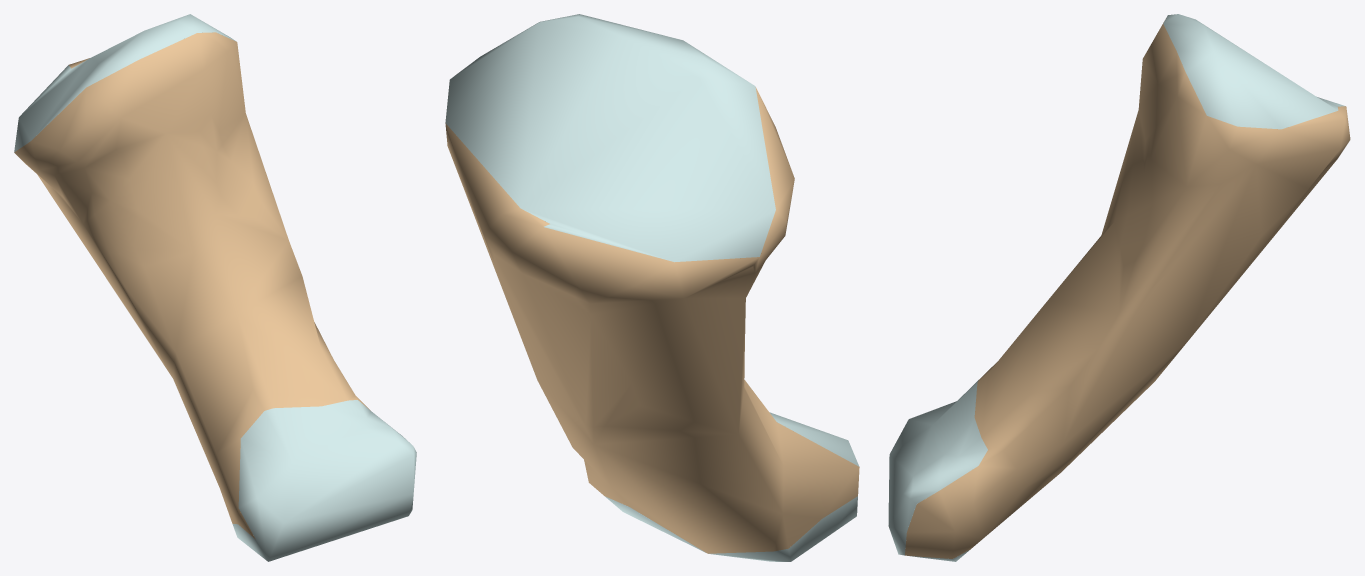
Rendered from Middle_phalanx_of_5th_finger.r_Generated_Mesh_From_X3D.715.glb.
3 views of the same model, side by side, from view 1: azimuth 30°, elevation 25°; view 2: azimuth 150°, elevation 25°; view 3: azimuth 270°, elevation 25° (orthographic). The views are drawn at different scales.
Parts seen in each view (by area): view 1: Middle_phalanx_of_5th_finger.r_Generated_Mesh_From_X3D.715; view 2: Middle_phalanx_of_5th_finger.r_Generated_Mesh_From_X3D.715; view 3: Middle_phalanx_of_5th_finger.r_Generated_Mesh_From_X3D.715.
Boxes of the visible parts, x1,y1,x2,y2 form: Middle_phalanx_of_5th_finger.r_Generated_Mesh_From_X3D.715: (14,14,416,561); Middle_phalanx_of_5th_finger.r_Generated_Mesh_From_X3D.715: (445,14,859,561); Middle_phalanx_of_5th_finger.r_Generated_Mesh_From_X3D.715: (888,14,1350,561).
Size of the model in its own units: 0.0121 by 0.0205 by 0.0173.
